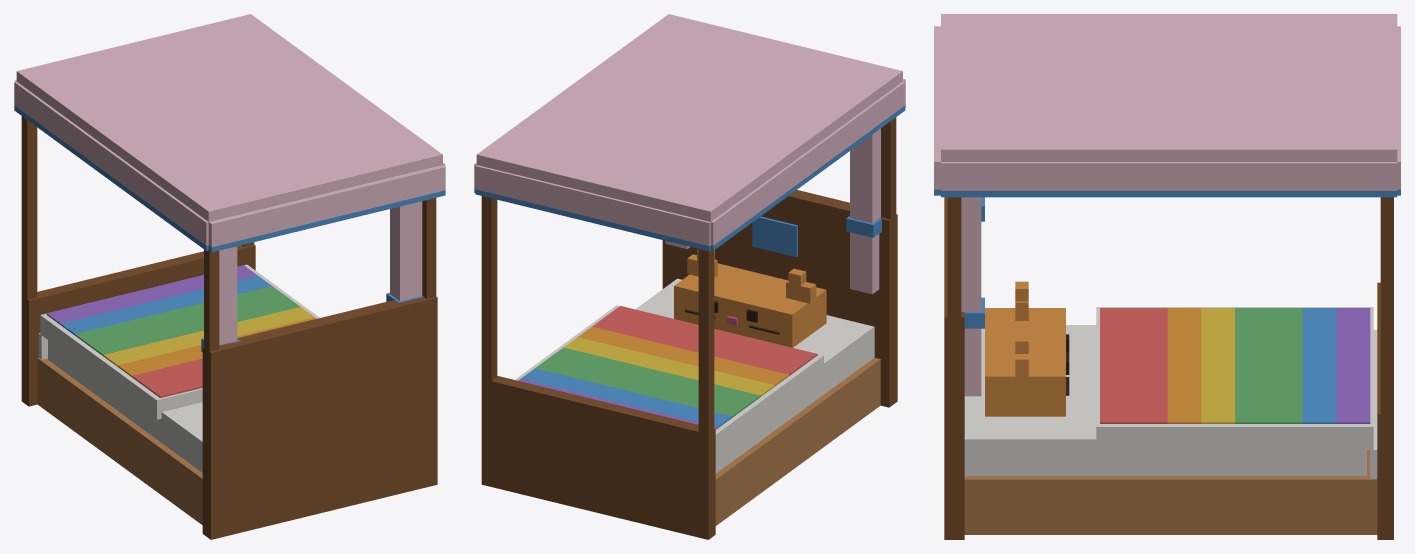
Rendered from ncb-bed-rainbow.glb.
3 views of the same model, side by side, from view 1: azimuth 30°, elevation 25°; view 2: azimuth 150°, elevation 25°; view 3: azimuth 270°, elevation 25° (orthographic). The views are drawn at different scales.
Parts seen in each view (by area): view 1: box-prop; view 2: box-prop; view 3: box-prop.
Part boxes in pixels (<box>): box-prop: <box>14,14,445,539</box>; box-prop: <box>474,14,905,539</box>; box-prop: <box>934,14,1400,539</box>.
Size of the model in its own units: 1.94 by 2.56 by 2.76.
